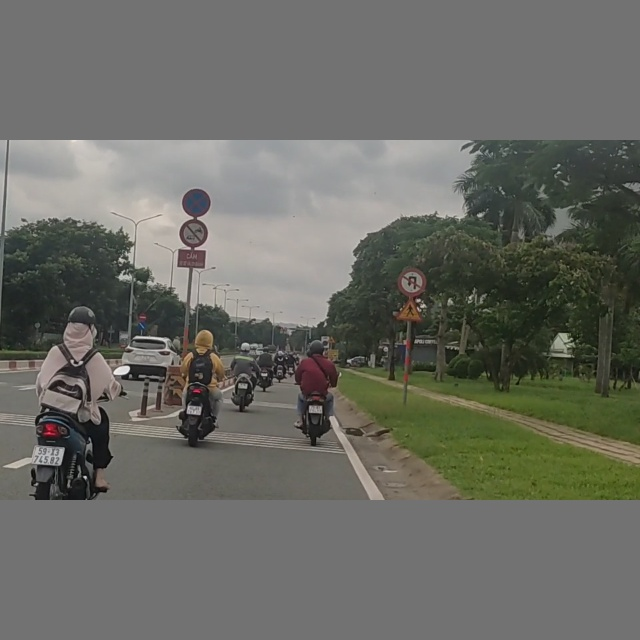P.102: (139, 313, 147, 321)
P.111: (180, 219, 208, 247)
P.124a*: (397, 267, 427, 297)
P.130: (182, 189, 211, 216)
R.302a: (137, 321, 146, 330)
W.224: (397, 299, 422, 321)
